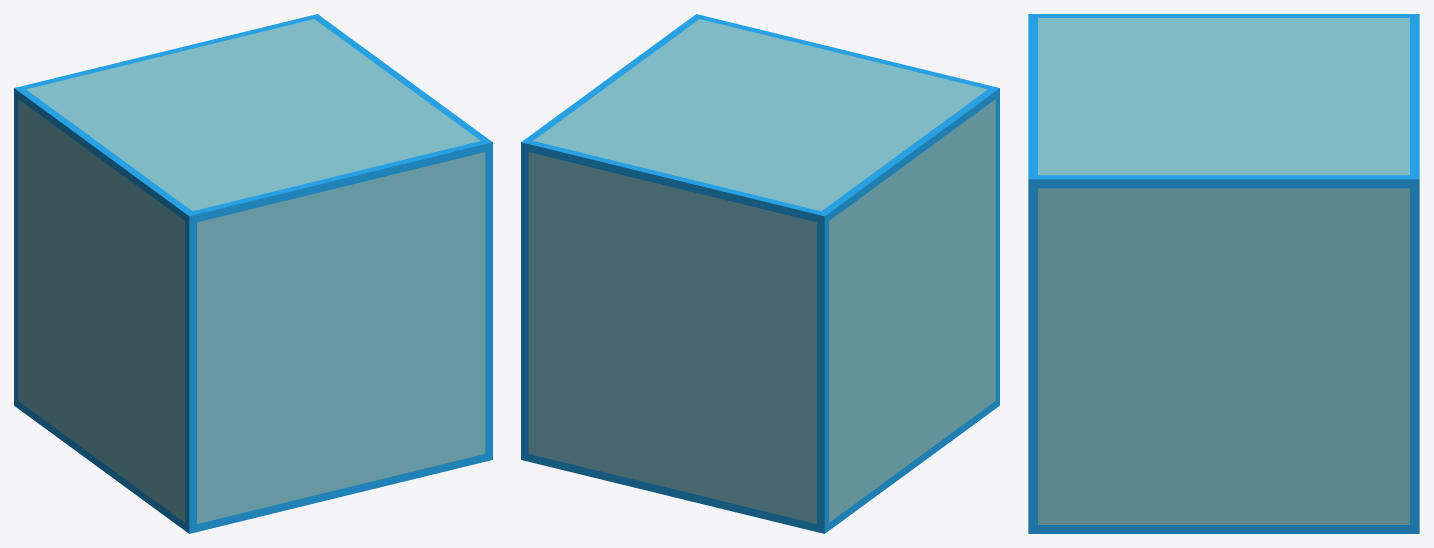
File: Box_Basic_Large.obj
3 renders of one model, left to right at view 1: azimuth 30°, elevation 25°; view 2: azimuth 150°, elevation 25°; view 3: azimuth 270°, elevation 25°, orthographic. The views are drawn at different scales.
Bounding box in the file's own units: 40 × 40 × 40.
Materials: 1 (1 with a texture image).
